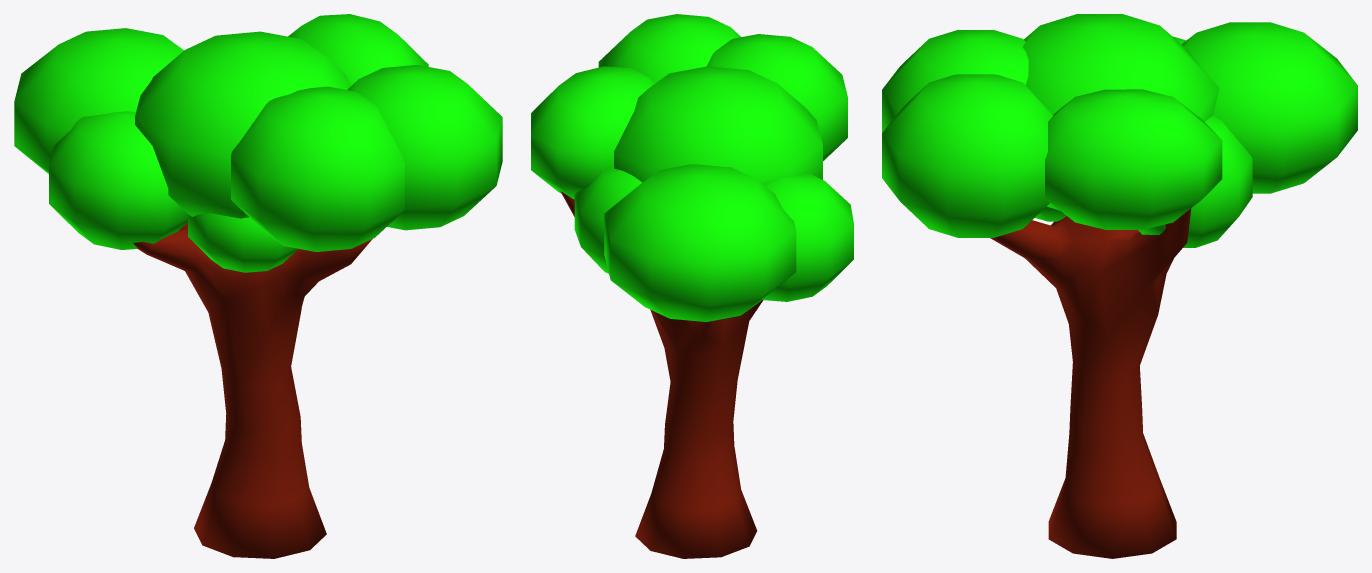
The model's file is 3D_ENV_TREE1.FBX.
3 renders of one model, left to right at view 1: azimuth 30°, elevation 25°; view 2: azimuth 150°, elevation 25°; view 3: azimuth 270°, elevation 25°, orthographic. The views are drawn at different scales.
Parts seen in each view (by area): view 1: Leaves, Tree1; view 2: Leaves, Tree1; view 3: Leaves, Tree1.
Part boxes in pixels (x1=…): Leaves: x1=14, y1=14, x2=502, y2=272; Tree1: x1=133, y1=222, x2=372, y2=558; Leaves: x1=531, y1=14, x2=853, y2=321; Tree1: x1=560, y1=191, x2=763, y2=558; Leaves: x1=882, y1=14, x2=1357, y2=247; Tree1: x1=990, y1=208, x2=1191, y2=558.
Bounding box in the file's own units: 184 × 256 × 223.
